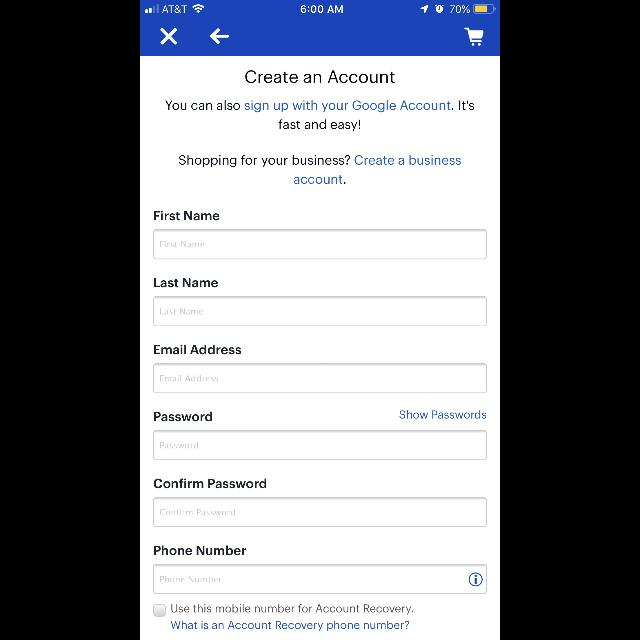checkbox: (153, 604, 165, 616)
icon: (464, 28, 484, 46), (160, 28, 178, 46), (210, 29, 228, 45), (469, 572, 483, 586)
input: (154, 497, 486, 527), (154, 564, 486, 594), (154, 430, 486, 460), (154, 363, 486, 393), (154, 296, 486, 326), (154, 229, 486, 259)
text: (166, 100, 474, 132), (179, 156, 461, 184), (171, 604, 413, 632), (246, 70, 394, 84), (154, 478, 266, 488), (154, 545, 246, 555), (154, 345, 242, 355), (400, 411, 486, 419), (154, 211, 220, 221), (154, 278, 218, 288), (160, 508, 236, 516), (154, 412, 212, 422), (160, 576, 222, 582), (160, 375, 218, 381), (160, 241, 204, 247), (161, 309, 203, 315), (160, 442, 198, 448)
uppertaskbar: (140, 0, 500, 14)
